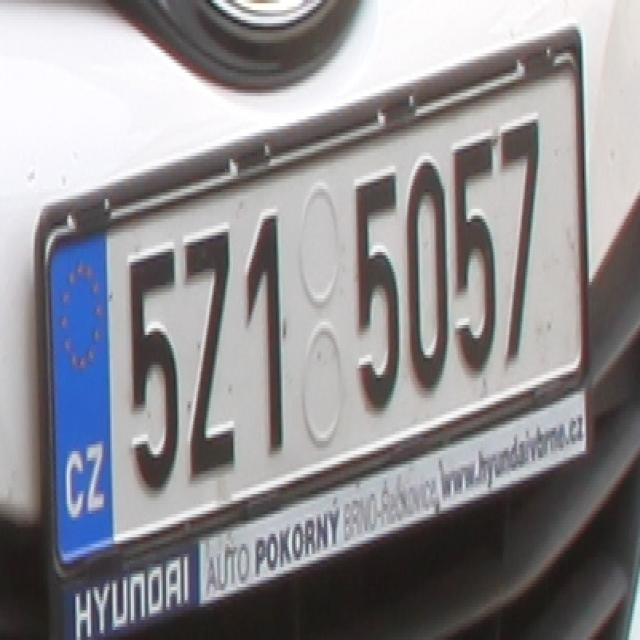0: (402, 152, 447, 402)
1: (243, 206, 284, 464)
5: (124, 238, 179, 494), (352, 159, 402, 421), (449, 132, 496, 372)
7: (499, 106, 542, 372)
Z: (182, 218, 235, 478)
